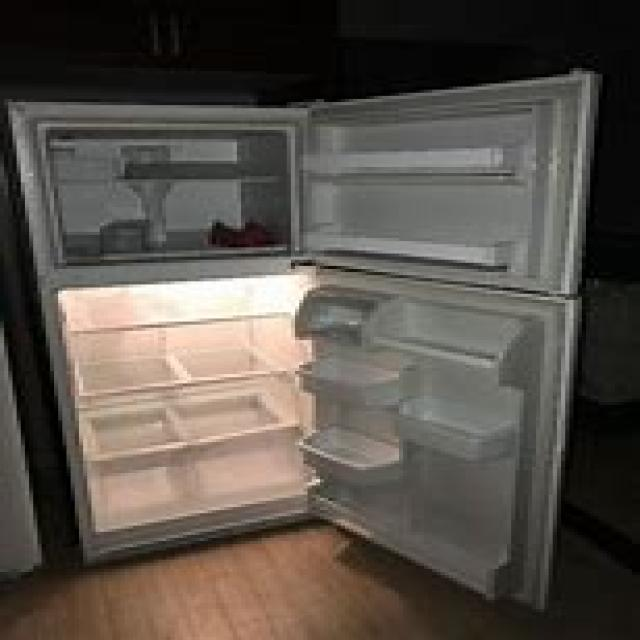fridge: (0, 65, 603, 612)
